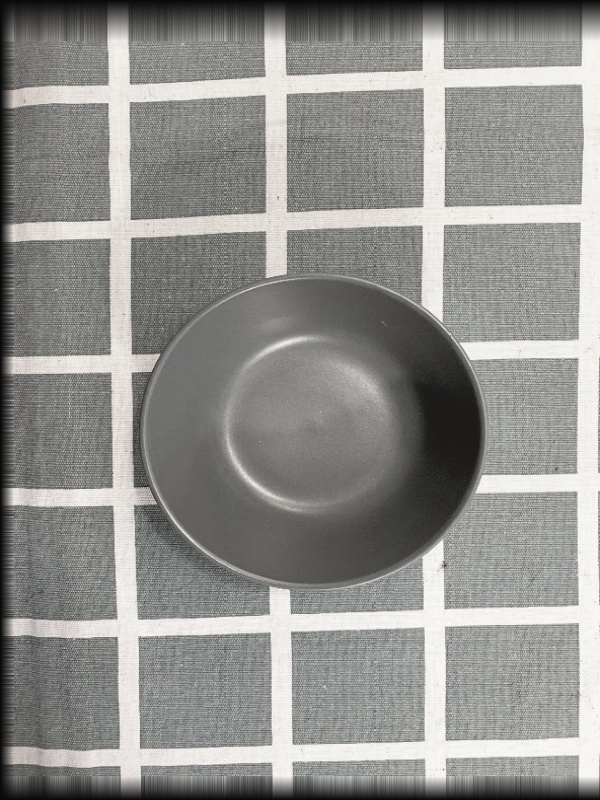bowl_big: (125, 264, 493, 611)
